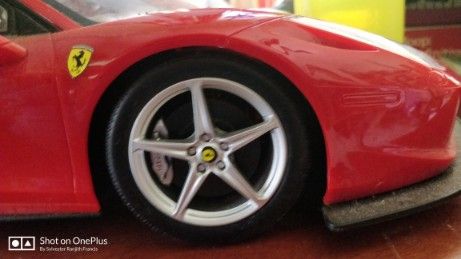unaligned_wheel: (94, 53, 332, 247)
